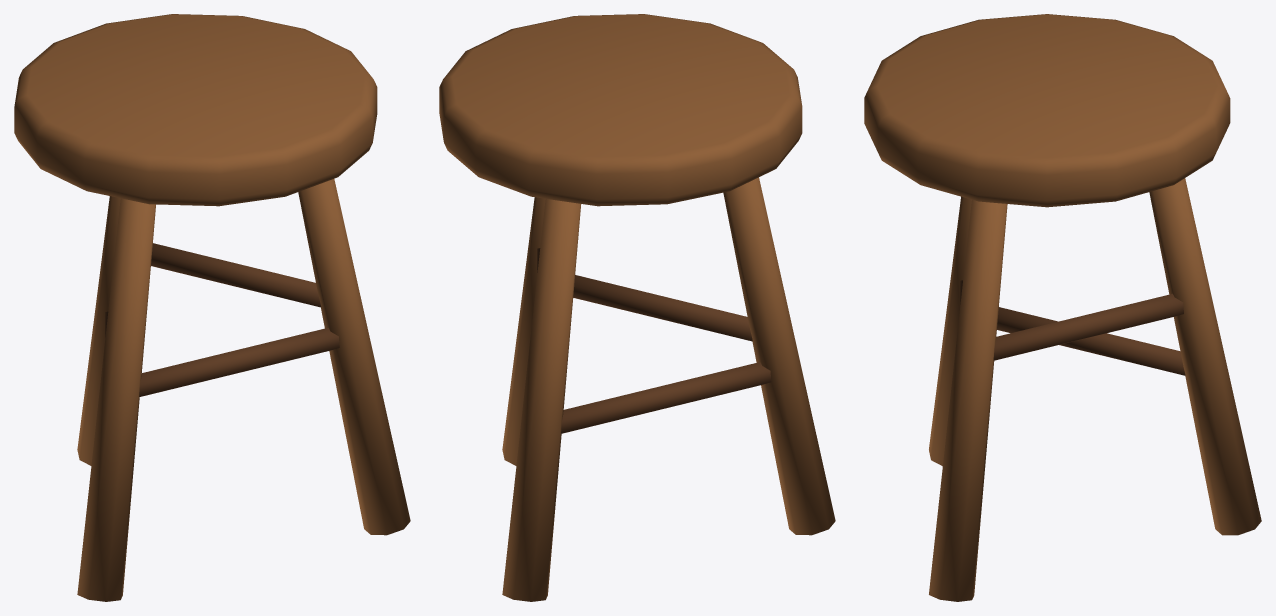
File: wooden-stool_final.glb
The picture shows the model from 3 angles, left to right: view 1: azimuth 30°, elevation 25°; view 2: azimuth 150°, elevation 25°; view 3: azimuth 270°, elevation 25°; orthographic projection.
Parts seen in each view (by area): view 1: SM_WoodenStool_Seat, SM_WoodenStool; view 2: SM_WoodenStool_Seat, SM_WoodenStool; view 3: SM_WoodenStool_Seat, SM_WoodenStool.
Boxes of the visible parts, x1,y1,x2,y2 form: SM_WoodenStool_Seat: (14, 14, 377, 206); SM_WoodenStool: (77, 179, 410, 601); SM_WoodenStool_Seat: (439, 14, 802, 206); SM_WoodenStool: (502, 177, 835, 601); SM_WoodenStool_Seat: (864, 14, 1230, 207); SM_WoodenStool: (929, 178, 1261, 601).
Size of the model in its own units: 0.3499 by 0.4541 by 0.3694.
